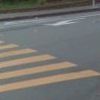crosswalk: (0, 43, 99, 92)
